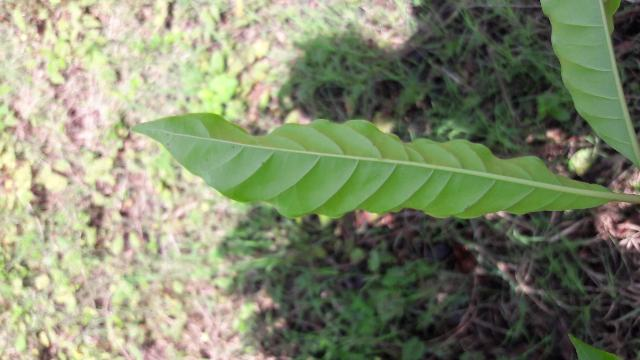healthy: (130, 109, 613, 218)
